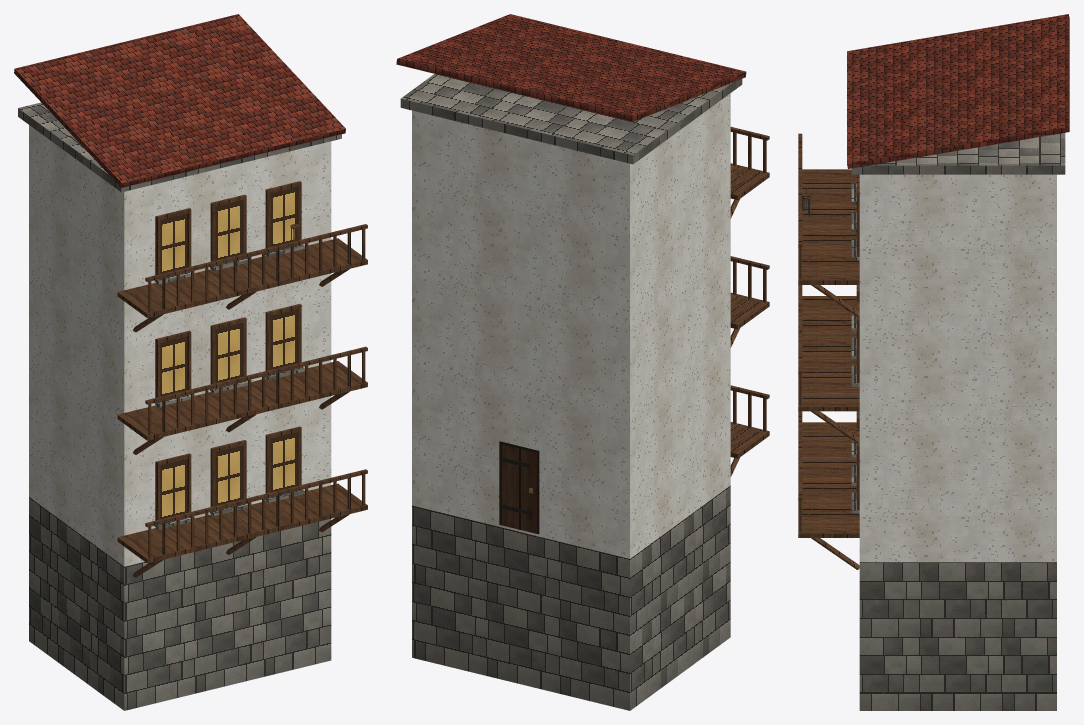
Rendered from casa_colgada.obj.
3 renders of one model, left to right at view 1: azimuth 30°, elevation 25°; view 2: azimuth 150°, elevation 25°; view 3: azimuth 270°, elevation 25°, orthographic. The views are drawn at different scales.
Parts seen in each view (by area): view 1: casa_colgada; view 2: casa_colgada; view 3: casa_colgada.
Boxes of the visible parts, bbox=[...] form: casa_colgada: bbox=[14, 14, 367, 710]; casa_colgada: bbox=[396, 14, 769, 710]; casa_colgada: bbox=[798, 14, 1069, 710].
Bounding box in the file's own units: 6.5 × 15.81 × 6.61.
Materials: 8 (8 with a texture image).
